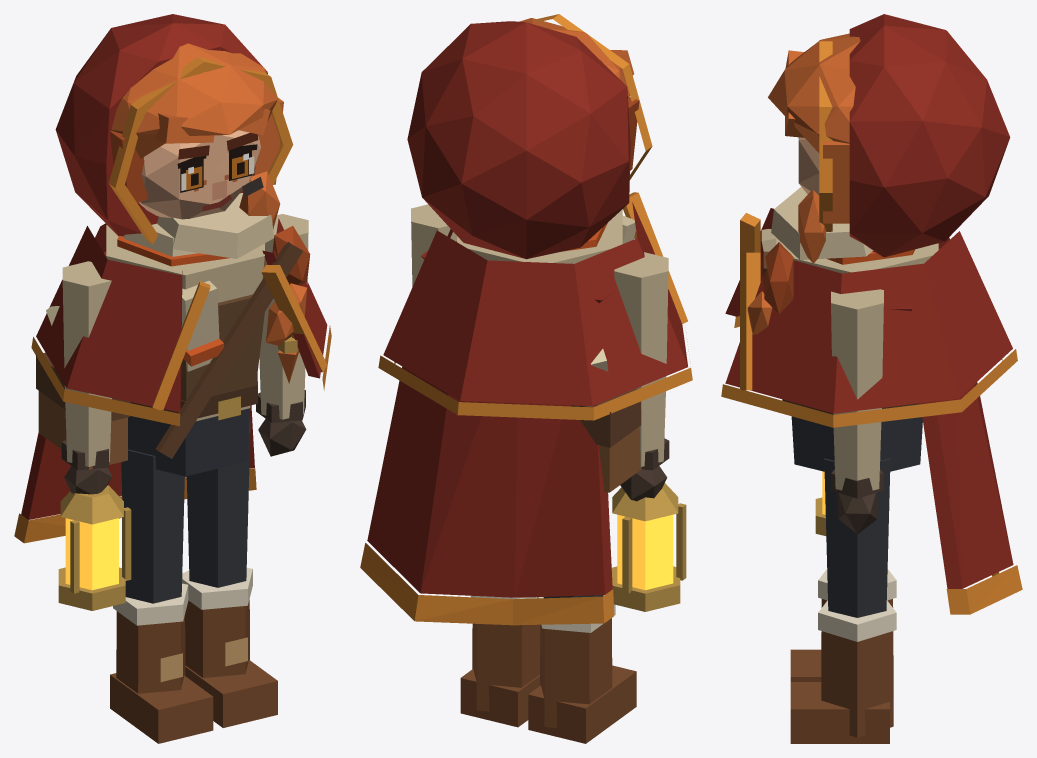
The model's file is wren-hood-up-low.glb.
The picture shows the model from 3 angles, left to right: view 1: azimuth 30°, elevation 25°; view 2: azimuth 150°, elevation 25°; view 3: azimuth 270°, elevation 25°; orthographic projection. The views are drawn at different scales.
Parts seen in each view (by area): view 1: cloak, torso, head, hood_up, knee_R, knee_L, lantern, leg_R, leg_L, hips, elbow_L, elbow_R (+4 smaller); view 2: cloak, hood_up, knee_R, lantern, knee_L, arm_R, satchel, elbow_R, torso, head, arm_L; view 3: cloak, hood_up, knee_L, head, torso, leg_L, elbow_L, arm_L, hips, knee_R, lantern.
Part boxes in pixels (x1,y1,x2,y2): cloak: (14, 218, 331, 543); torso: (106, 171, 310, 458); head: (110, 43, 283, 219); hood_up: (55, 14, 293, 244); knee_R: (110, 563, 213, 743); knee_L: (182, 547, 277, 727); lantern: (58, 485, 131, 610); leg_R: (121, 449, 184, 570); leg_L: (186, 417, 250, 554); hips: (128, 408, 250, 476); elbow_L: (256, 335, 306, 456); elbow_R: (61, 385, 112, 494); cloak: (360, 192, 692, 625); hood_up: (407, 14, 652, 259); knee_R: (528, 595, 636, 743); lantern: (611, 483, 686, 611); knee_L: (460, 595, 540, 727); arm_R: (614, 252, 668, 378); satchel: (570, 349, 641, 492); elbow_R: (620, 377, 669, 501); torso: (457, 209, 635, 263); head: (520, 18, 639, 170); arm_L: (411, 204, 456, 286); cloak: (721, 208, 1022, 614); hood_up: (819, 14, 1010, 257); knee_L: (790, 576, 896, 743); head: (768, 33, 860, 223); torso: (747, 187, 938, 414); leg_L: (824, 458, 890, 583); elbow_L: (831, 408, 883, 534); arm_L: (831, 289, 883, 411); hips: (791, 416, 922, 471); knee_R: (790, 569, 896, 686); lantern: (815, 471, 826, 535).
Size of the model in its own units: 0.8304 by 1.99 by 0.7886.
